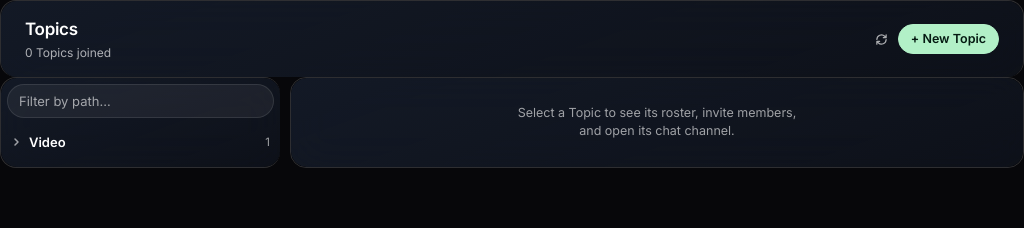
QURATOR-148 — aliveness gates the discovery sidebar › aliveness unknown (null) keeps the row — never a confident drop
Click the button with class "root-header".
click(47, 142)  # box [7, 124, 274, 161]
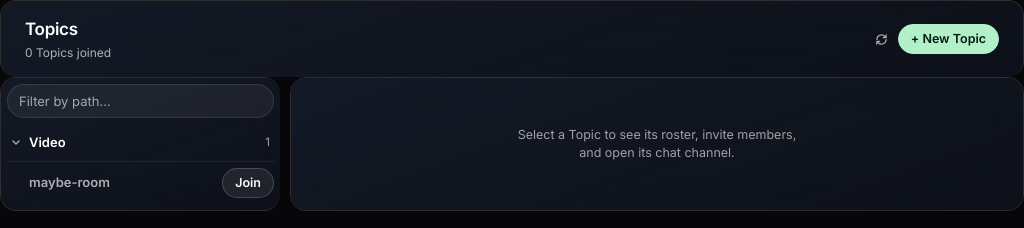
Expected: the text "maybe-room" is shown, [29, 174, 110, 190]
